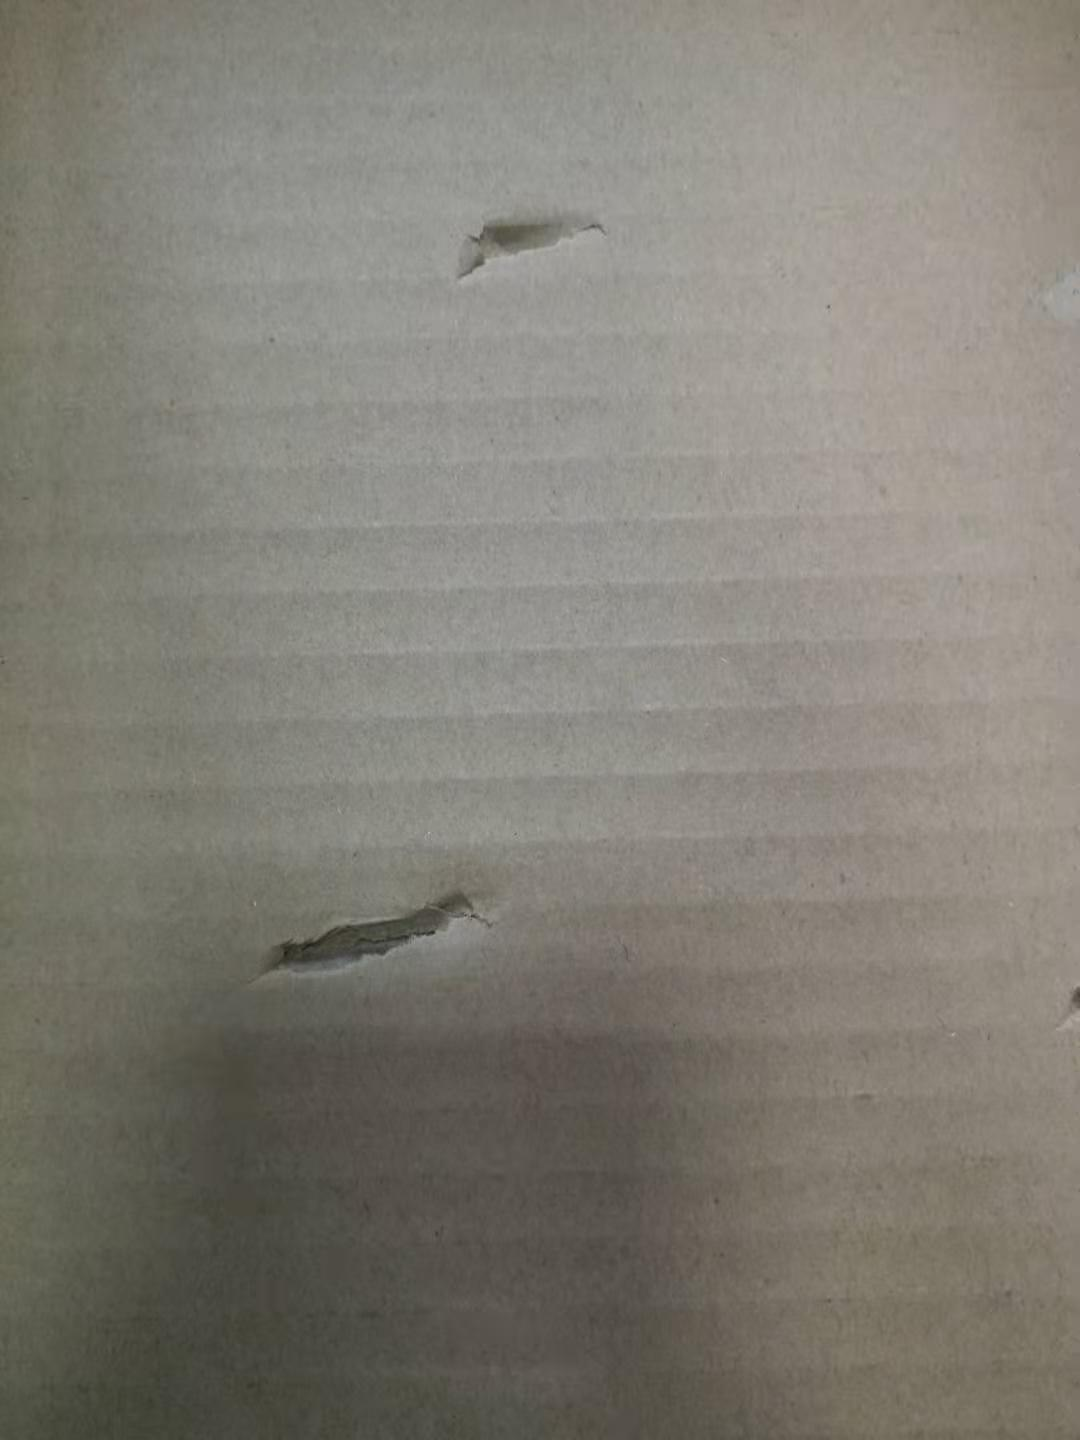defect: (223, 848, 543, 1015), (422, 166, 621, 305), (1043, 955, 1080, 1069)
